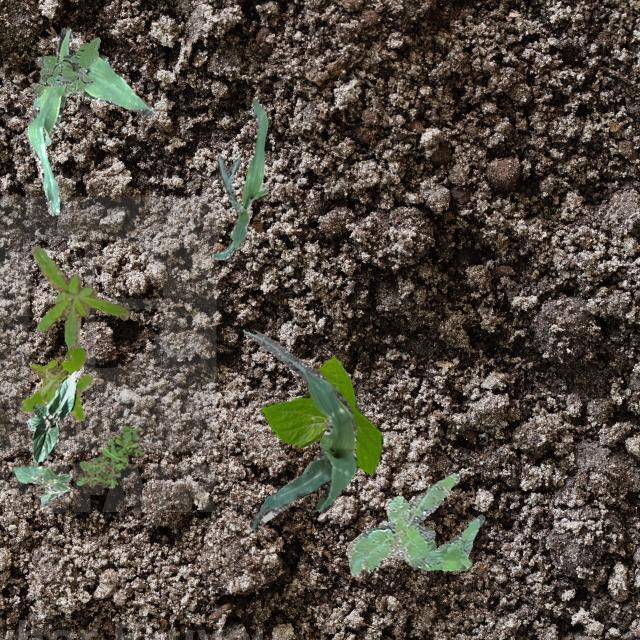crop: (24, 27, 154, 215), (244, 330, 356, 530), (260, 354, 382, 474), (210, 99, 268, 258), (24, 369, 80, 462), (12, 464, 70, 506)
weed: (344, 472, 484, 576), (32, 244, 128, 348), (20, 344, 94, 420), (74, 424, 144, 486), (30, 36, 100, 98)
